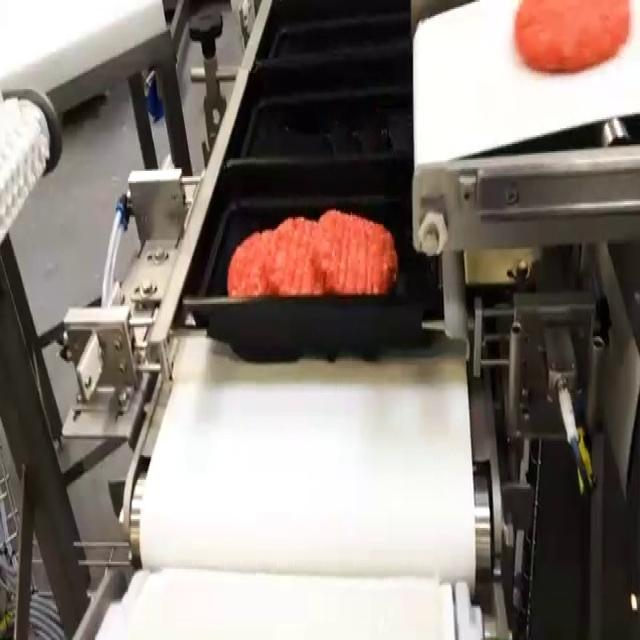hamburguer: (515, 0, 629, 71)
